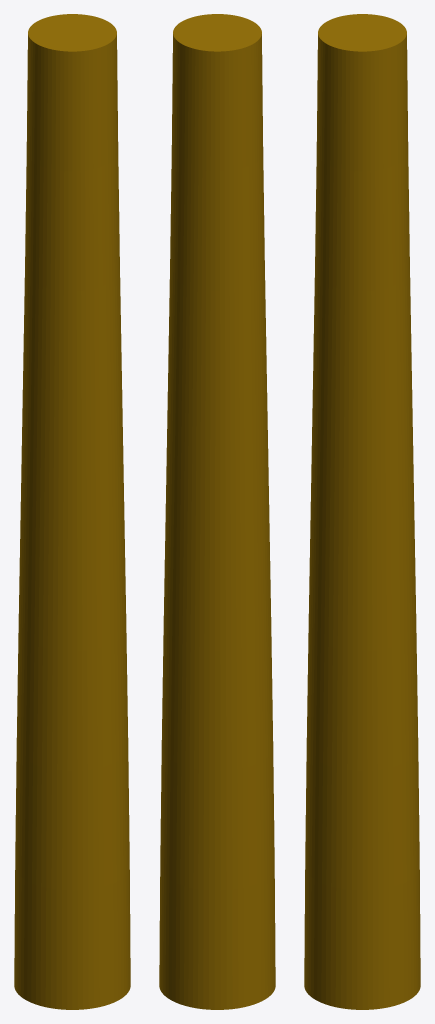
Rendered from 12_decorative.glb.
3 views of the same model, side by side, from view 1: azimuth 90°, elevation 25°; view 2: azimuth 150°, elevation 25°; view 3: azimuth 270°, elevation 25° (orthographic).
Visible parts, largest first — view 1: skpCFD2; view 2: skpCFD2; view 3: skpCFD2.
Part boxes in pixels (x1,y1,x2,y2): skpCFD2: [14, 14, 130, 1009]; skpCFD2: [159, 14, 275, 1009]; skpCFD2: [304, 14, 420, 1009].
Size of the model in its own units: 0.4051 by 3.66 by 0.4051.
